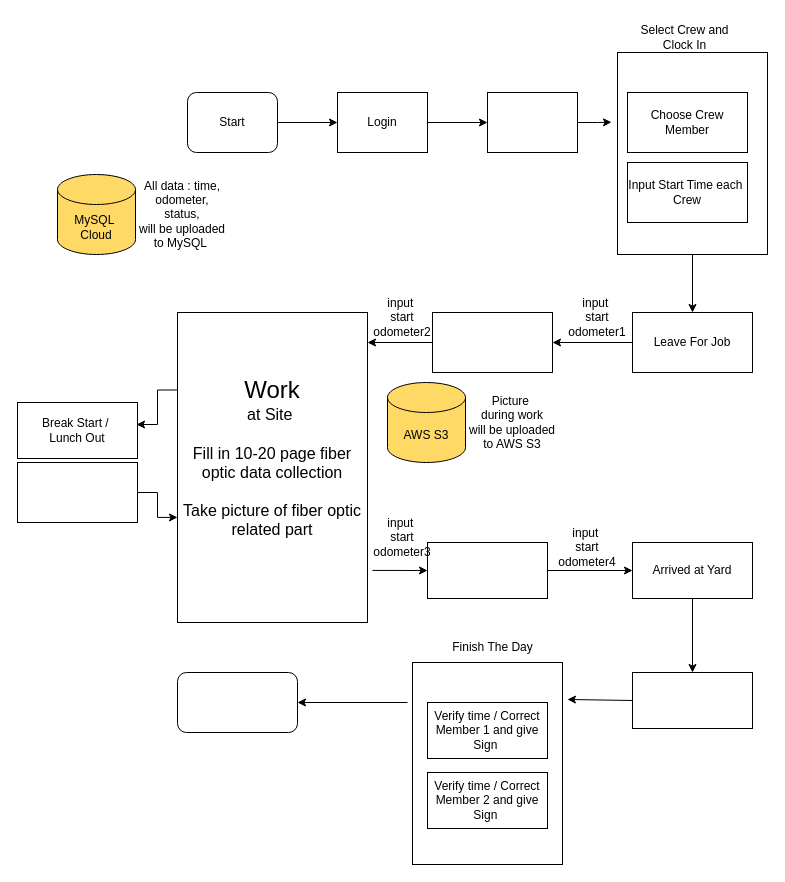
The diagram is 785 pixels wide and 882 high, and some of its shapes have lost their labels. The centre of each missing label's shape, as x and y in pixels:
"Arrived at Job" goes at point (492, 342).
"Break Finished / Lunch In" goes at point (77, 492).
"Finish" goes at point (237, 702).
"Left Job" goes at point (487, 570).
"Return Equipment" goes at point (692, 700).
"Select Job" goes at point (532, 122).
